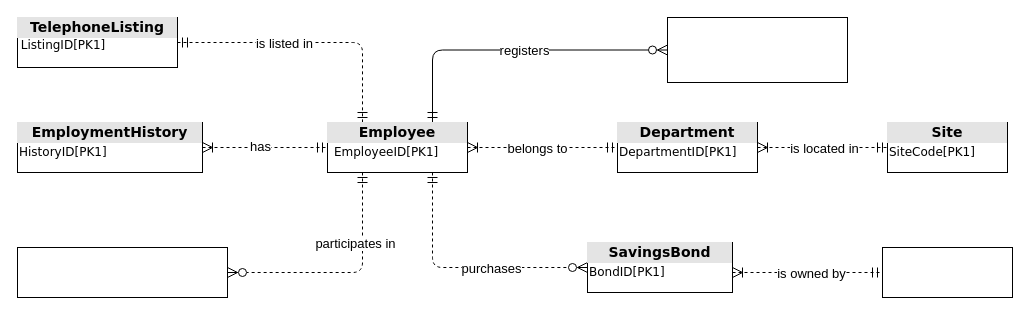
The diagram is 1030 pixels wide and 315 high, and some of its shapes have lost their labels. The box of each missing label's shape, as (x1, y1, x2, y2) in pixels:
BondOwner OwnerSSN[PK1]: (882, 246, 1012, 298)
EmergencyContact EmployeeID[PK1][FK] ContactSequenece[PK2]: (666, 16, 848, 82)
UnitedWayContribution ContributionID[PK1]: (16, 246, 228, 298)
